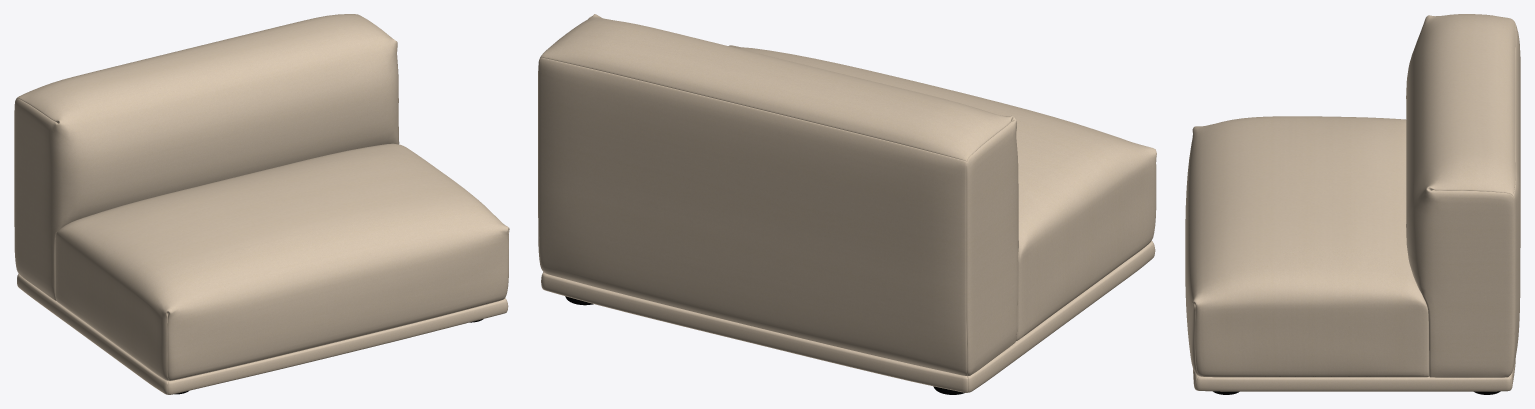
The model's file is DIVINA 106.glb.
The picture shows the model from 3 angles, left to right: view 1: azimuth 30°, elevation 25°; view 2: azimuth 150°, elevation 25°; view 3: azimuth 270°, elevation 25°; orthographic projection. The views are drawn at different scales.
Parts seen in each view (by area): view 1: Upholstery; view 2: Upholstery; view 3: Upholstery.
Part boxes in pixels (box(x1,y1,x2,y2)): Upholstery: box(14, 14, 509, 394); Upholstery: box(538, 14, 1156, 392); Upholstery: box(1185, 14, 1520, 391).
Bounding box in the file's own units: 1.2 × 0.7009 × 0.9536.
Materials: 2 (2 with a texture image).
